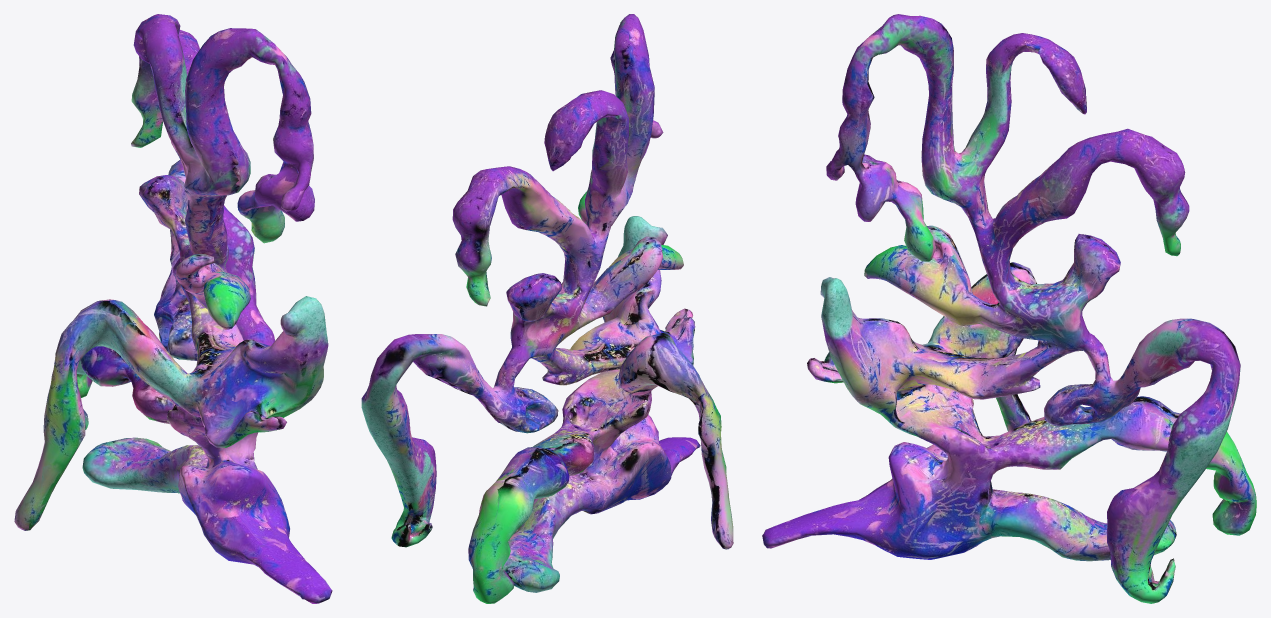
File: shr-tree.glb
3 views of the same model, side by side, from view 1: azimuth 30°, elevation 25°; view 2: azimuth 150°, elevation 25°; view 3: azimuth 270°, elevation 25° (orthographic). The views are drawn at different scales.
Parts seen in each view (by area): view 1: geometry_0; view 2: geometry_0; view 3: geometry_0.
Part boxes in pixels (x1=…): geometry_0: x1=14, y1=14, x2=332, y2=603; geometry_0: x1=361, y1=14, x2=733, y2=603; geometry_0: x1=762, y1=14, x2=1256, y2=603.
Bounding box in the file's own units: 0.6198 × 1 × 0.8258.
Materials: 1 (1 with a texture image).
